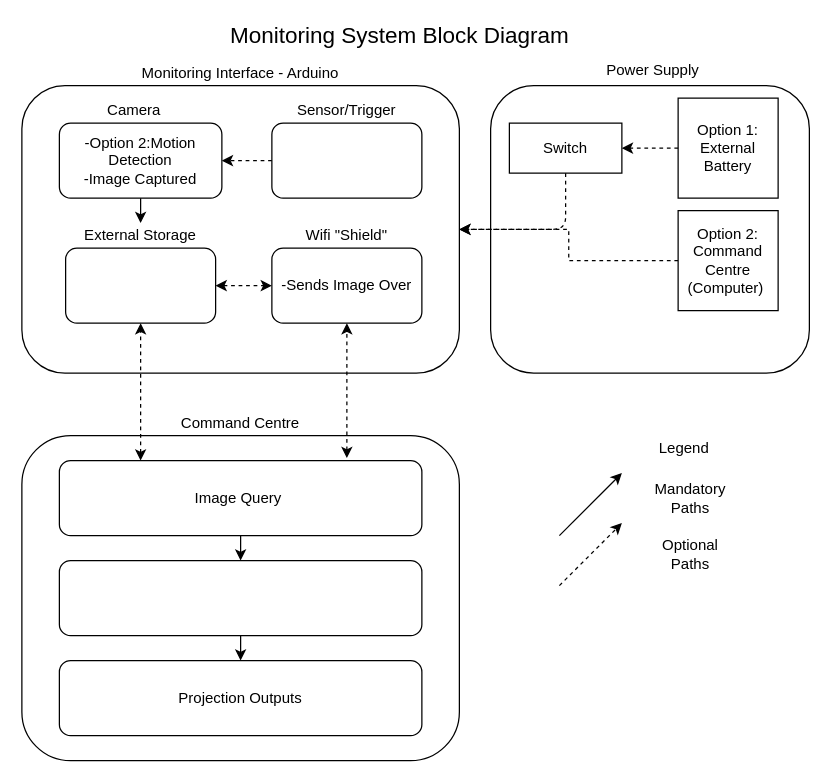
The diagram is 831 pixels wide and 783 high, and some of its shapes have lost their labels. The centre of each missing label's shape, as x and y in pixels:
-Option 1: Trigger Image Capture: the point at 346,160
-Stores Image: the point at 140,285
MATLAB Calculations: the point at 240,597
